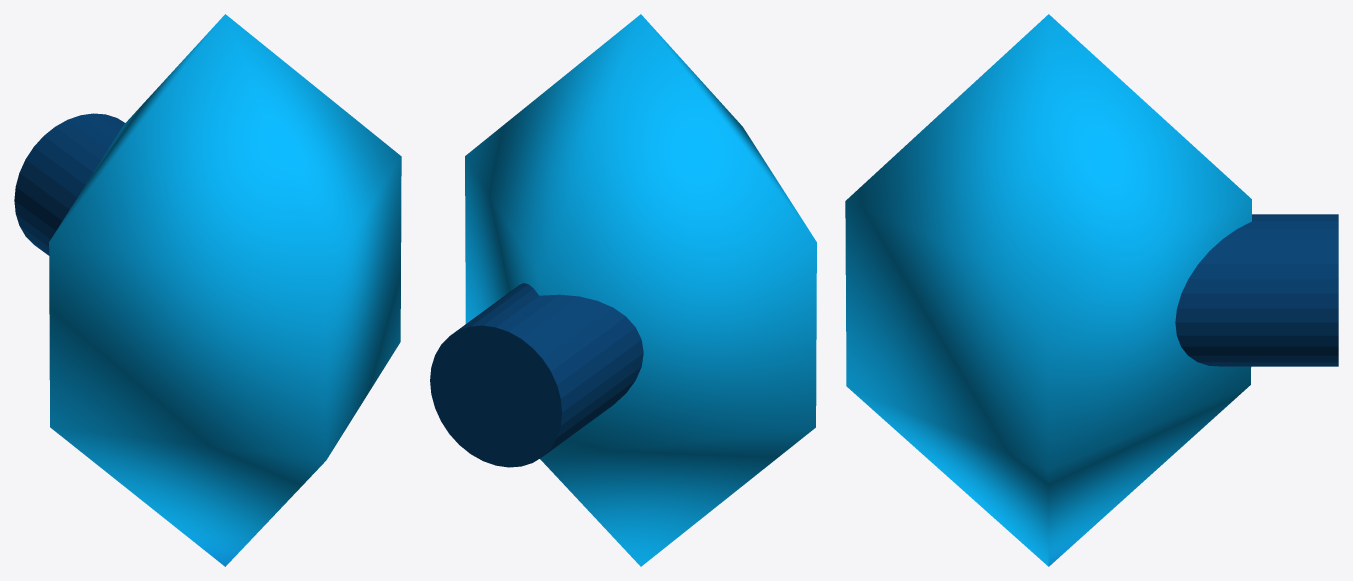
File: Player.obj
The picture shows the model from 3 angles, left to right: view 1: azimuth 30°, elevation 25°; view 2: azimuth 150°, elevation 25°; view 3: azimuth 270°, elevation 25°; orthographic projection.
Parts seen in each view (by area): view 1: 円柱; view 2: 円柱; view 3: 円柱.
Part boxes in pixels (x1=…): 円柱: x1=14, y1=14, x2=401, y2=566; 円柱: x1=430, y1=14, x2=816, y2=566; 円柱: x1=845, y1=14, x2=1338, y2=566.
Size of the model in its own units: 1.33 by 2 by 1.62.
1 material, 1 textured.
